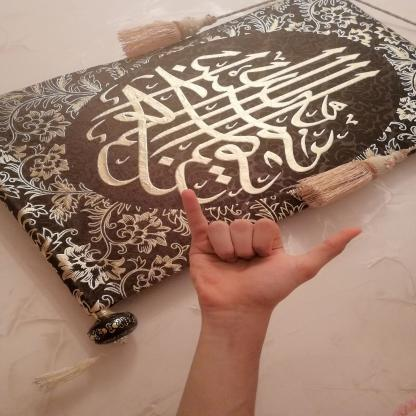YA: (165, 177, 374, 320)
